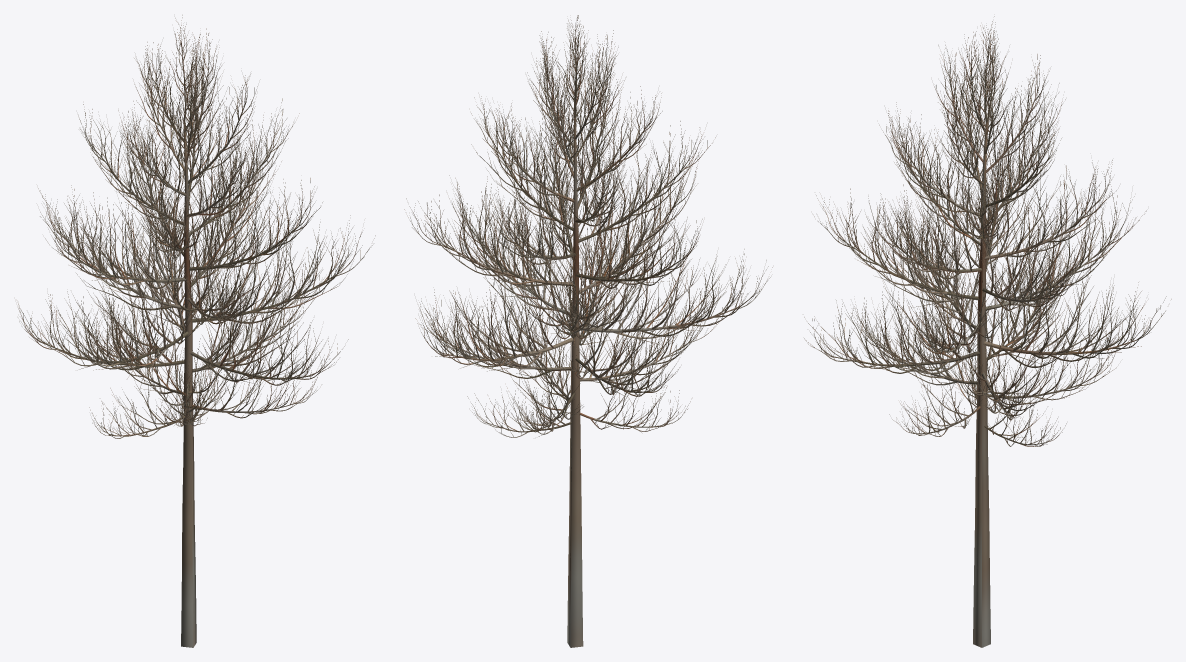
Rendered from COPACPADUREEE.fbx.
The picture shows the model from 3 angles, left to right: view 1: azimuth 30°, elevation 25°; view 2: azimuth 150°, elevation 25°; view 3: azimuth 270°, elevation 25°; orthographic projection.
Visible parts, largest first — view 1: tree; view 2: tree; view 3: tree.
Boxes of the visible parts, x1,y1,x2,y2 form: tree: (18, 15, 375, 647); tree: (404, 15, 772, 647); tree: (804, 16, 1171, 647).
Bounding box in the file's own units: 937 × 1810 × 969.
1 material, 1 textured.
